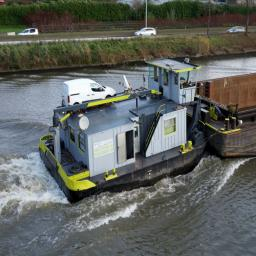tugboat: (41, 55, 216, 213)
